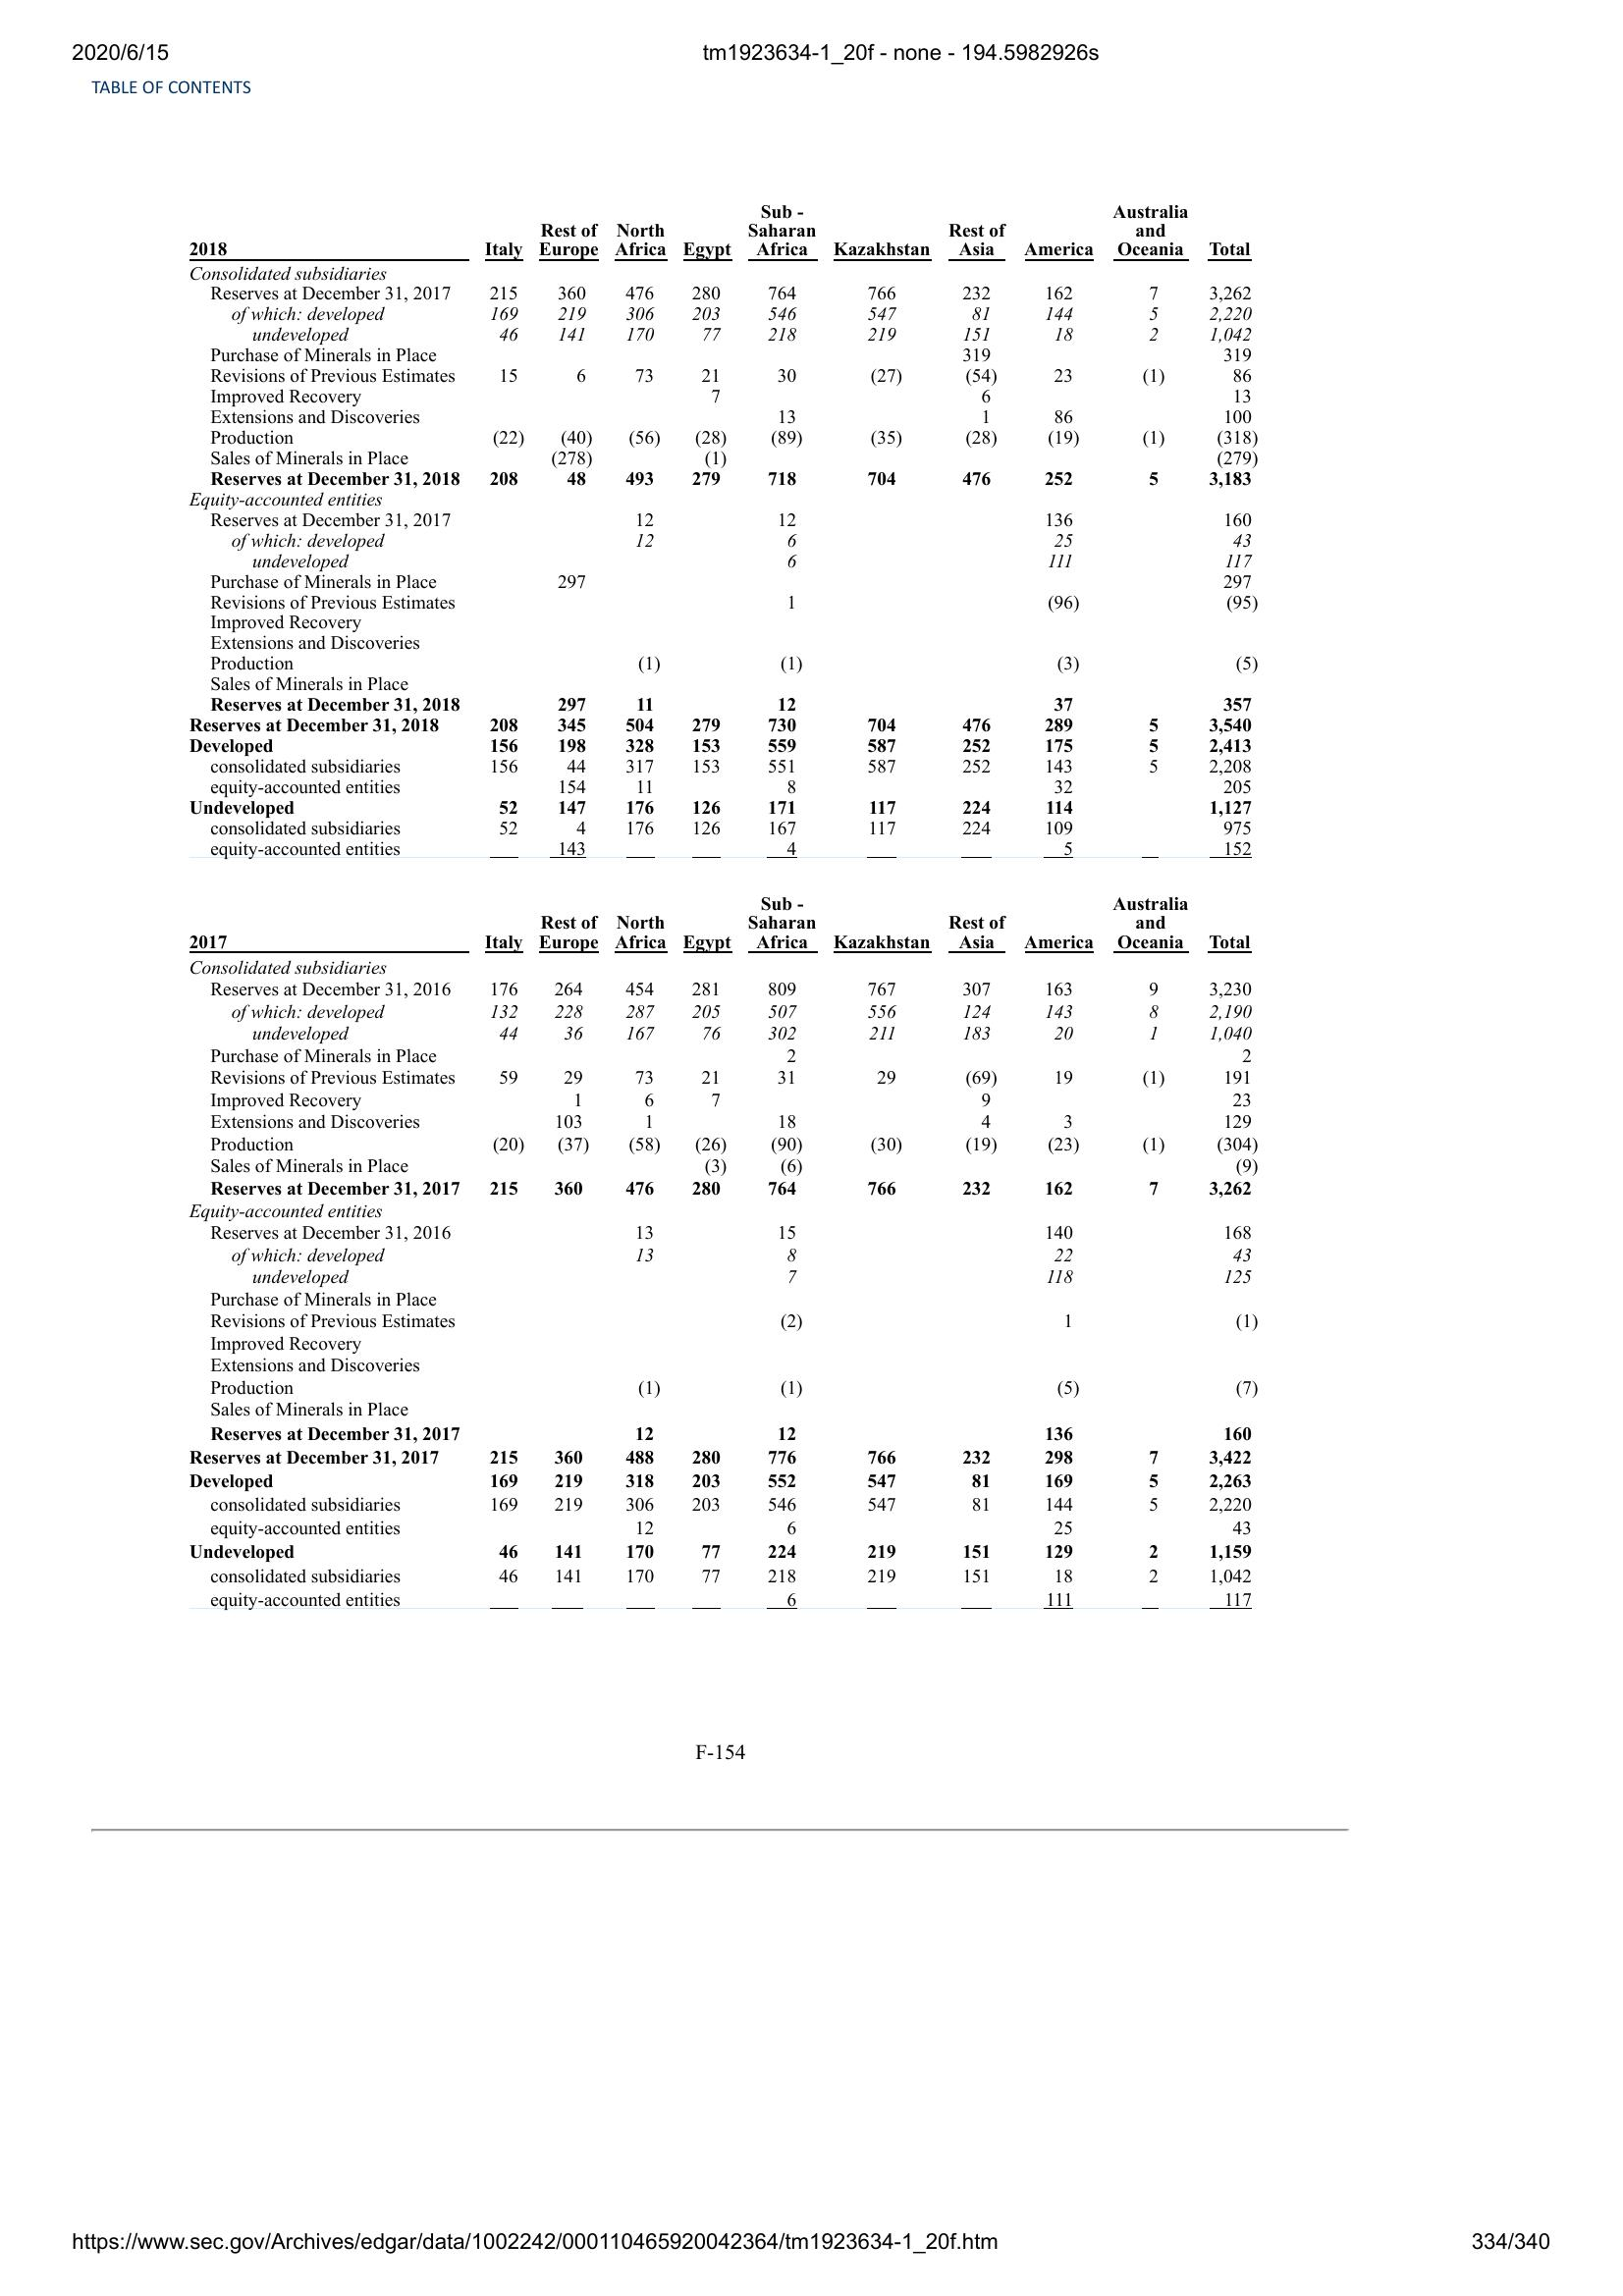table: (174, 893, 1261, 1615), (188, 204, 1261, 869)
